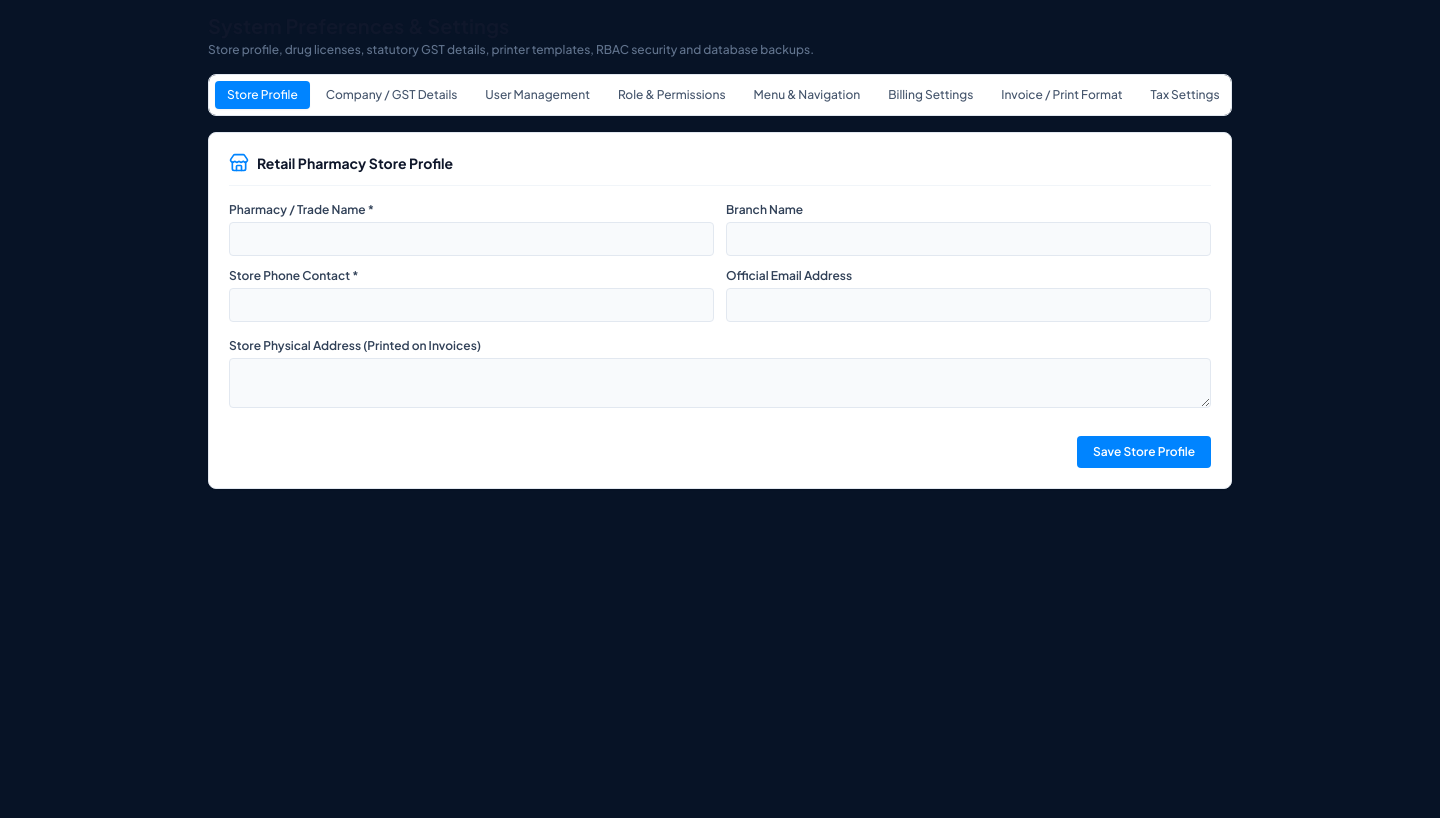
Test: Admin Panel: Configurable UI/UX Navigation & Menu Management System › 6. SettingsView: includes "Menu & Navigation" tab and switches to it smoothly
What coordinates should you click on to do the following:
click the button "Menu & Navigation"
I would click on:
 (807, 95)
Its box is [742,81,872,109].
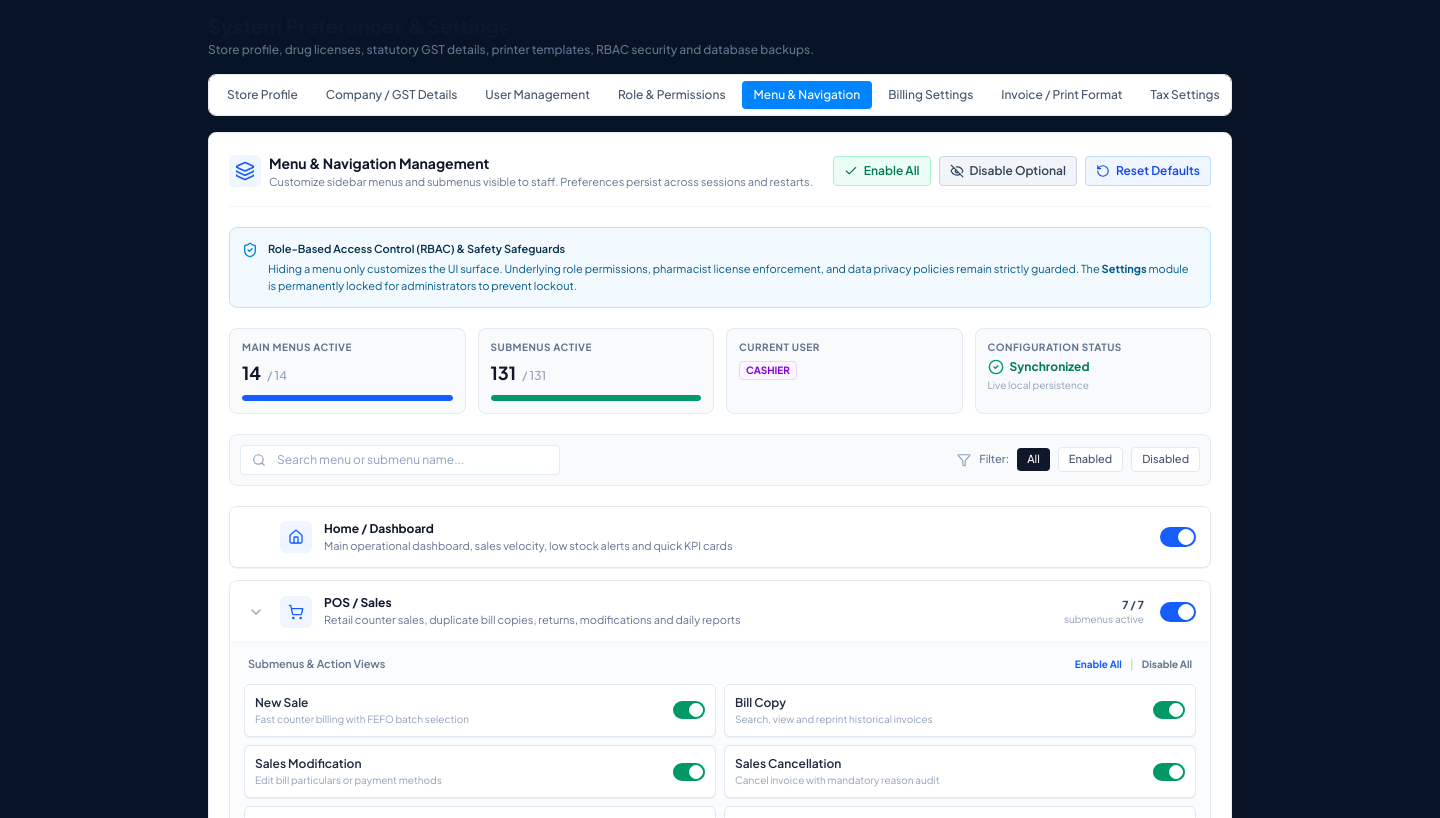
Expected: the heading "Menu & Navigation Management" is shown, [269,154,489,172]
